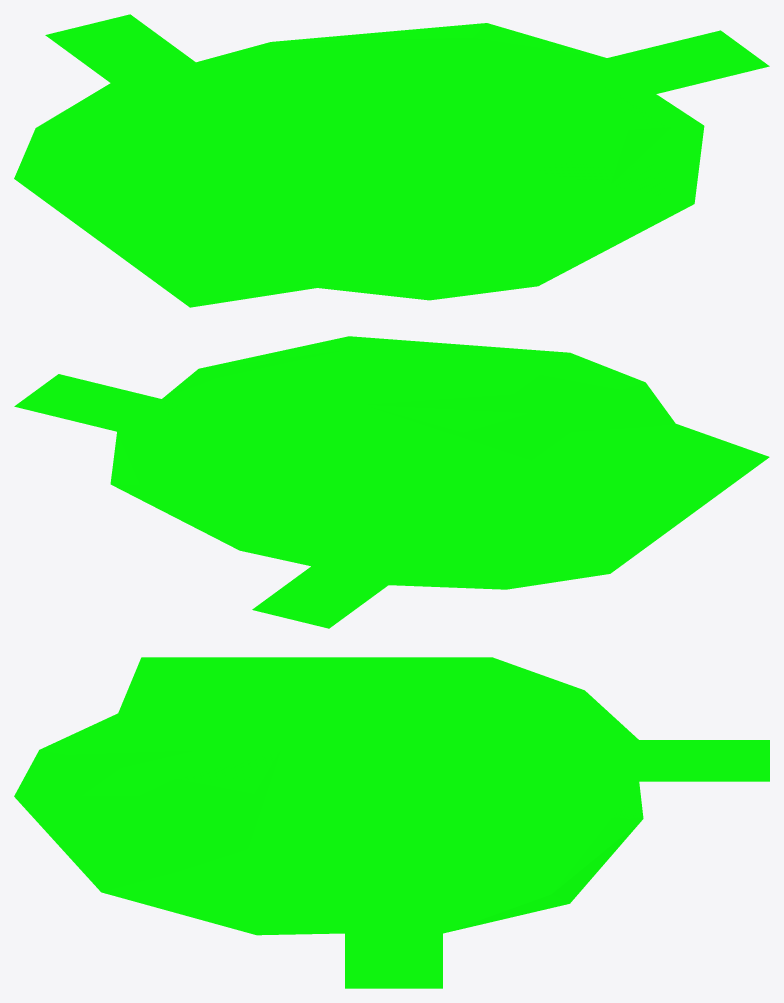
Rendered from s04a_lb1-floor.glb.
The picture shows the model from 3 angles, top to bottom: view 1: azimuth 30°, elevation 25°; view 2: azimuth 150°, elevation 25°; view 3: azimuth 270°, elevation 25°; orthographic projection. The views are drawn at different scales.
Visible parts, largest first — view 1: collision_floor-colonly; view 2: collision_floor-colonly; view 3: collision_floor-colonly.
Part boxes in pixels (bbox=[...]): collision_floor-colonly: bbox=[14, 14, 769, 307]; collision_floor-colonly: bbox=[14, 336, 769, 628]; collision_floor-colonly: bbox=[14, 657, 769, 988].
Size of the model in its own units: 48 by 0.2344 by 46.25.
